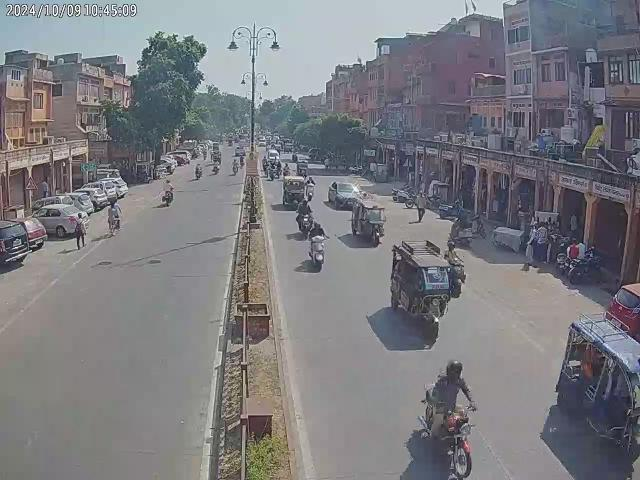auto: (554, 311, 640, 460), (388, 238, 456, 332), (350, 197, 386, 246), (280, 175, 308, 208)
bicycle-rider: (106, 201, 122, 237)
car: (30, 201, 90, 238), (0, 214, 30, 272), (326, 180, 360, 210), (94, 177, 130, 199), (158, 154, 176, 170), (296, 156, 310, 174), (267, 148, 279, 161)
helmet: (442, 356, 464, 382)
motorbike: (566, 254, 604, 286), (390, 186, 416, 207)
motorbike-rider: (418, 360, 478, 480), (446, 244, 466, 294), (296, 198, 312, 238), (162, 180, 174, 206)
person: (535, 223, 550, 263), (74, 212, 87, 252), (415, 190, 427, 223)
scooty-rider: (308, 222, 328, 270), (447, 215, 475, 246)
